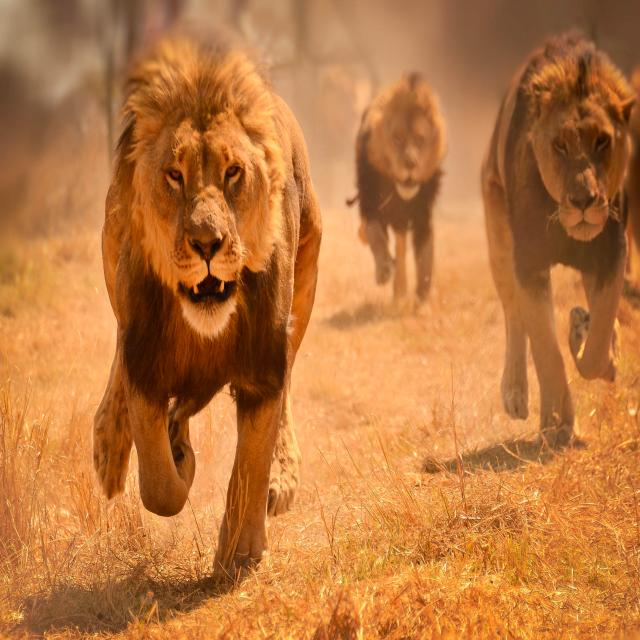lion: (93, 32, 321, 581), (481, 30, 635, 447), (346, 72, 446, 304)
